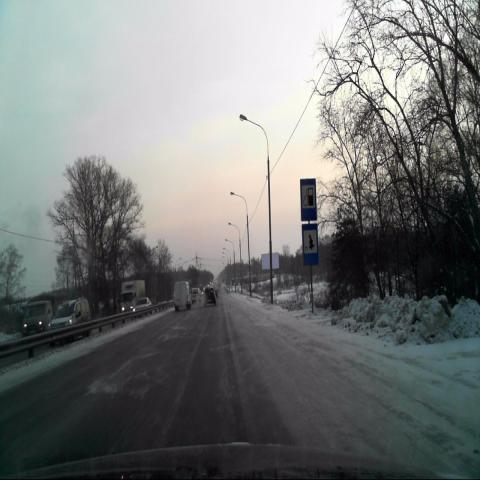7_11: (302, 223, 318, 265)
